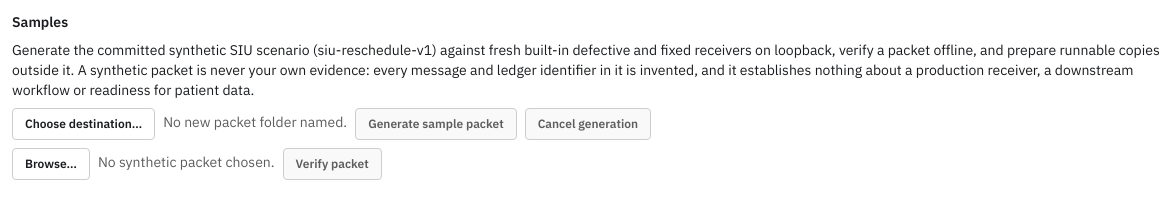
Test: a dismissed save dialog names nothing and generation stays unavailable
Step 1. Click the button "Choose destination…" → {"x": 84, "y": 124}, box [12,108,155,140]
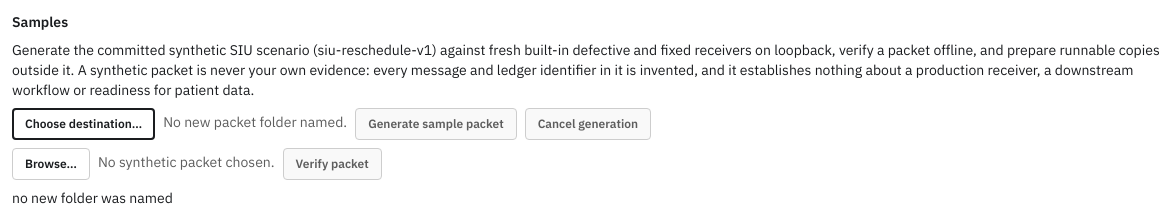
Expected: the text "No new packet folder named." is shown, [163,112,347,132]
Expected: the text "no new folder was named" is shown, [12,189,173,207]
